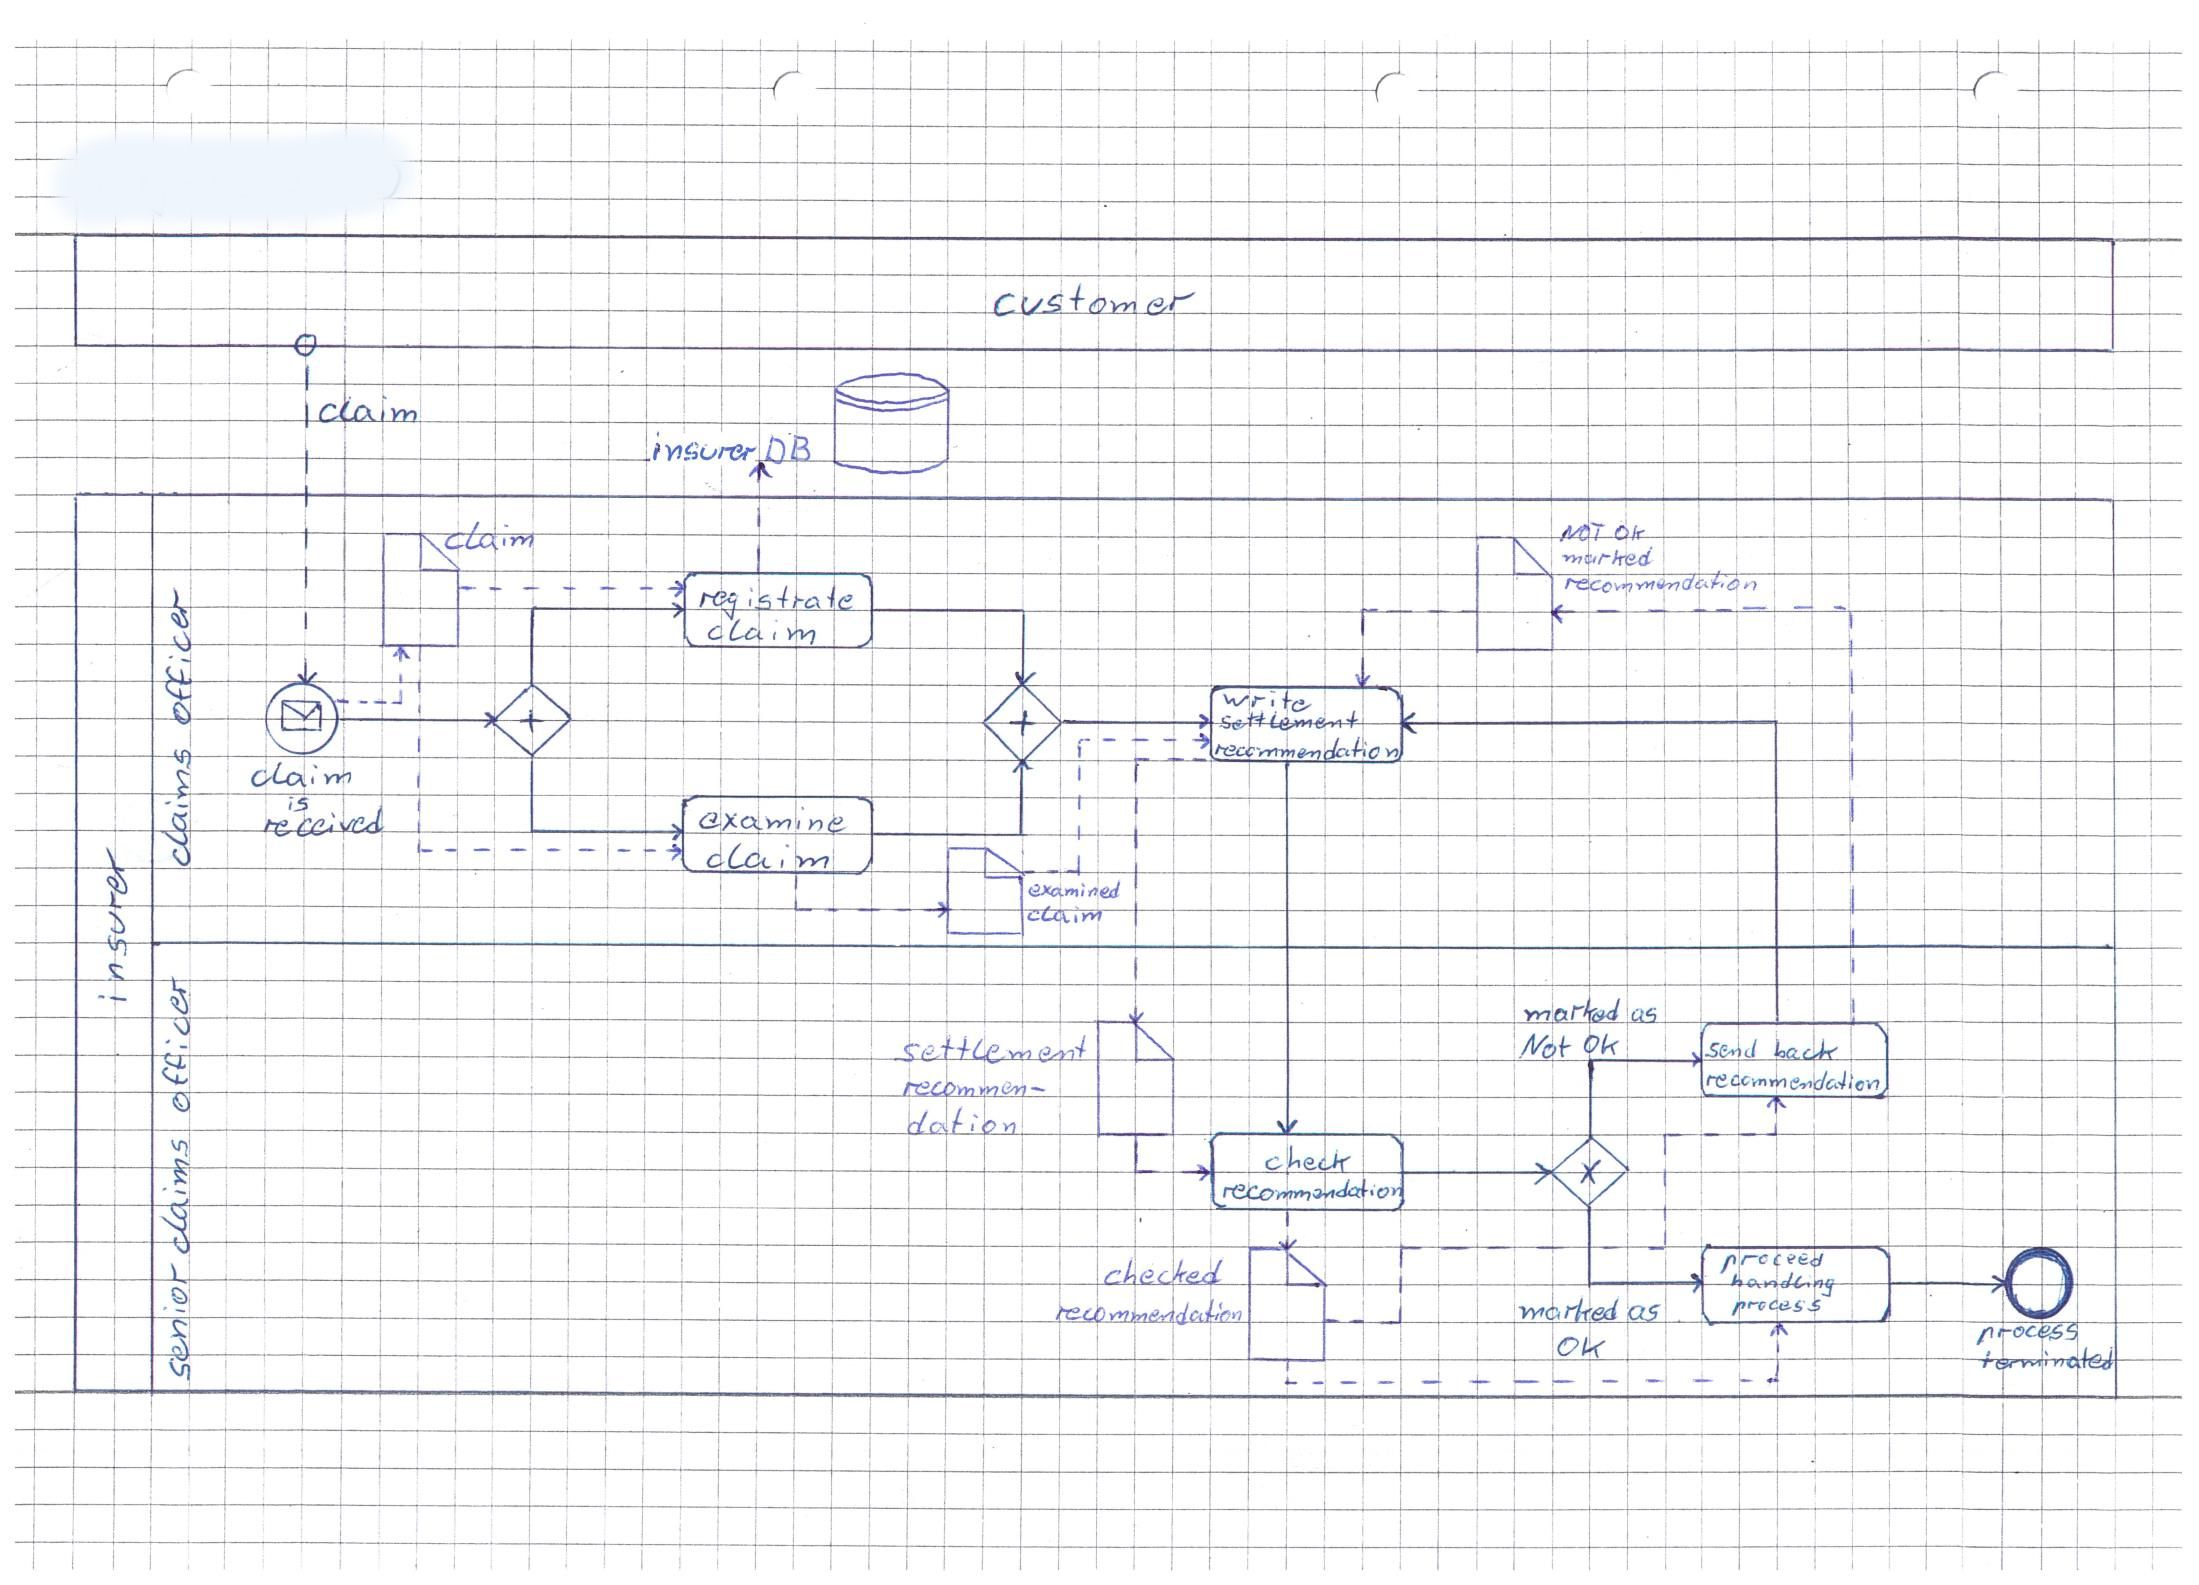DB: (756, 425, 820, 470)
NOT: (1554, 518, 1612, 547)
Not: (1513, 1026, 1578, 1067)
OK: (1550, 1331, 1612, 1366), (1578, 1028, 1625, 1062), (1608, 519, 1651, 547)
as: (1622, 1298, 1666, 1329), (1624, 999, 1663, 1030)
back: (1769, 1032, 1842, 1067)
check: (1258, 1139, 1357, 1180)
checked: (1096, 1252, 1229, 1293)
claim: (700, 837, 837, 878), (700, 611, 825, 651), (309, 389, 427, 430), (437, 514, 545, 557), (246, 757, 360, 794), (1021, 900, 1110, 929)
claims: (154, 740, 198, 874), (154, 1132, 198, 1262)
customer: (987, 277, 1204, 323)
dation: (900, 1102, 1024, 1143)
examine: (691, 799, 854, 839)
examined: (1023, 874, 1127, 905)
handling: (1724, 1267, 1840, 1303)
insurer: (87, 839, 137, 1009), (642, 425, 763, 466)
is: (283, 791, 314, 818)
marked: (1511, 1290, 1625, 1331), (1518, 992, 1627, 1028), (1557, 541, 1658, 572)
officer: (157, 579, 200, 733), (154, 968, 196, 1120)
proceed: (1712, 1243, 1832, 1283)
process: (1970, 1319, 2085, 1354), (1724, 1291, 1829, 1322)
received: (258, 799, 393, 844)
recommen-: (896, 1071, 1053, 1105)
recommendation: (1048, 1291, 1250, 1331), (1209, 729, 1407, 767), (1557, 565, 1765, 599), (1700, 1064, 1887, 1098), (1217, 1175, 1409, 1208)
registrate: (691, 579, 860, 627)
send: (1700, 1033, 1764, 1066)
senior: (157, 1255, 198, 1387)
settlement: (888, 1026, 1094, 1073), (1214, 705, 1364, 738)
terminated: (1970, 1342, 2119, 1377)
write: (1216, 687, 1318, 717)
